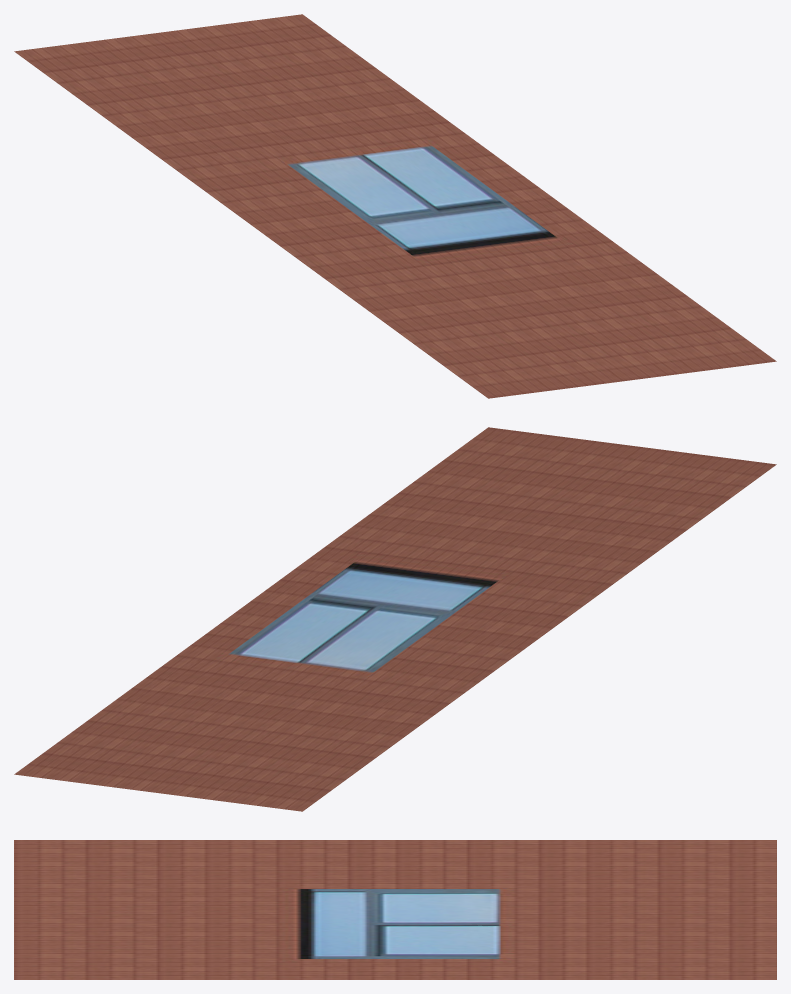
Rendered from data11.glb.
3 renders of one model, top to bottom at view 1: azimuth 30°, elevation 25°; view 2: azimuth 150°, elevation 25°; view 3: azimuth 270°, elevation 25°, orthographic. The views are drawn at different scales.
Parts seen in each view (by area): view 1: data11; view 2: data11; view 3: data11.
Part boxes in pixels (box(x1,y1,x2,y2)): data11: box(14, 14, 776, 398); data11: box(14, 427, 776, 811); data11: box(14, 840, 776, 979).
Size of the model in its own units: 2.11 by 0.2321 by 6.
1 material, 1 textured.
